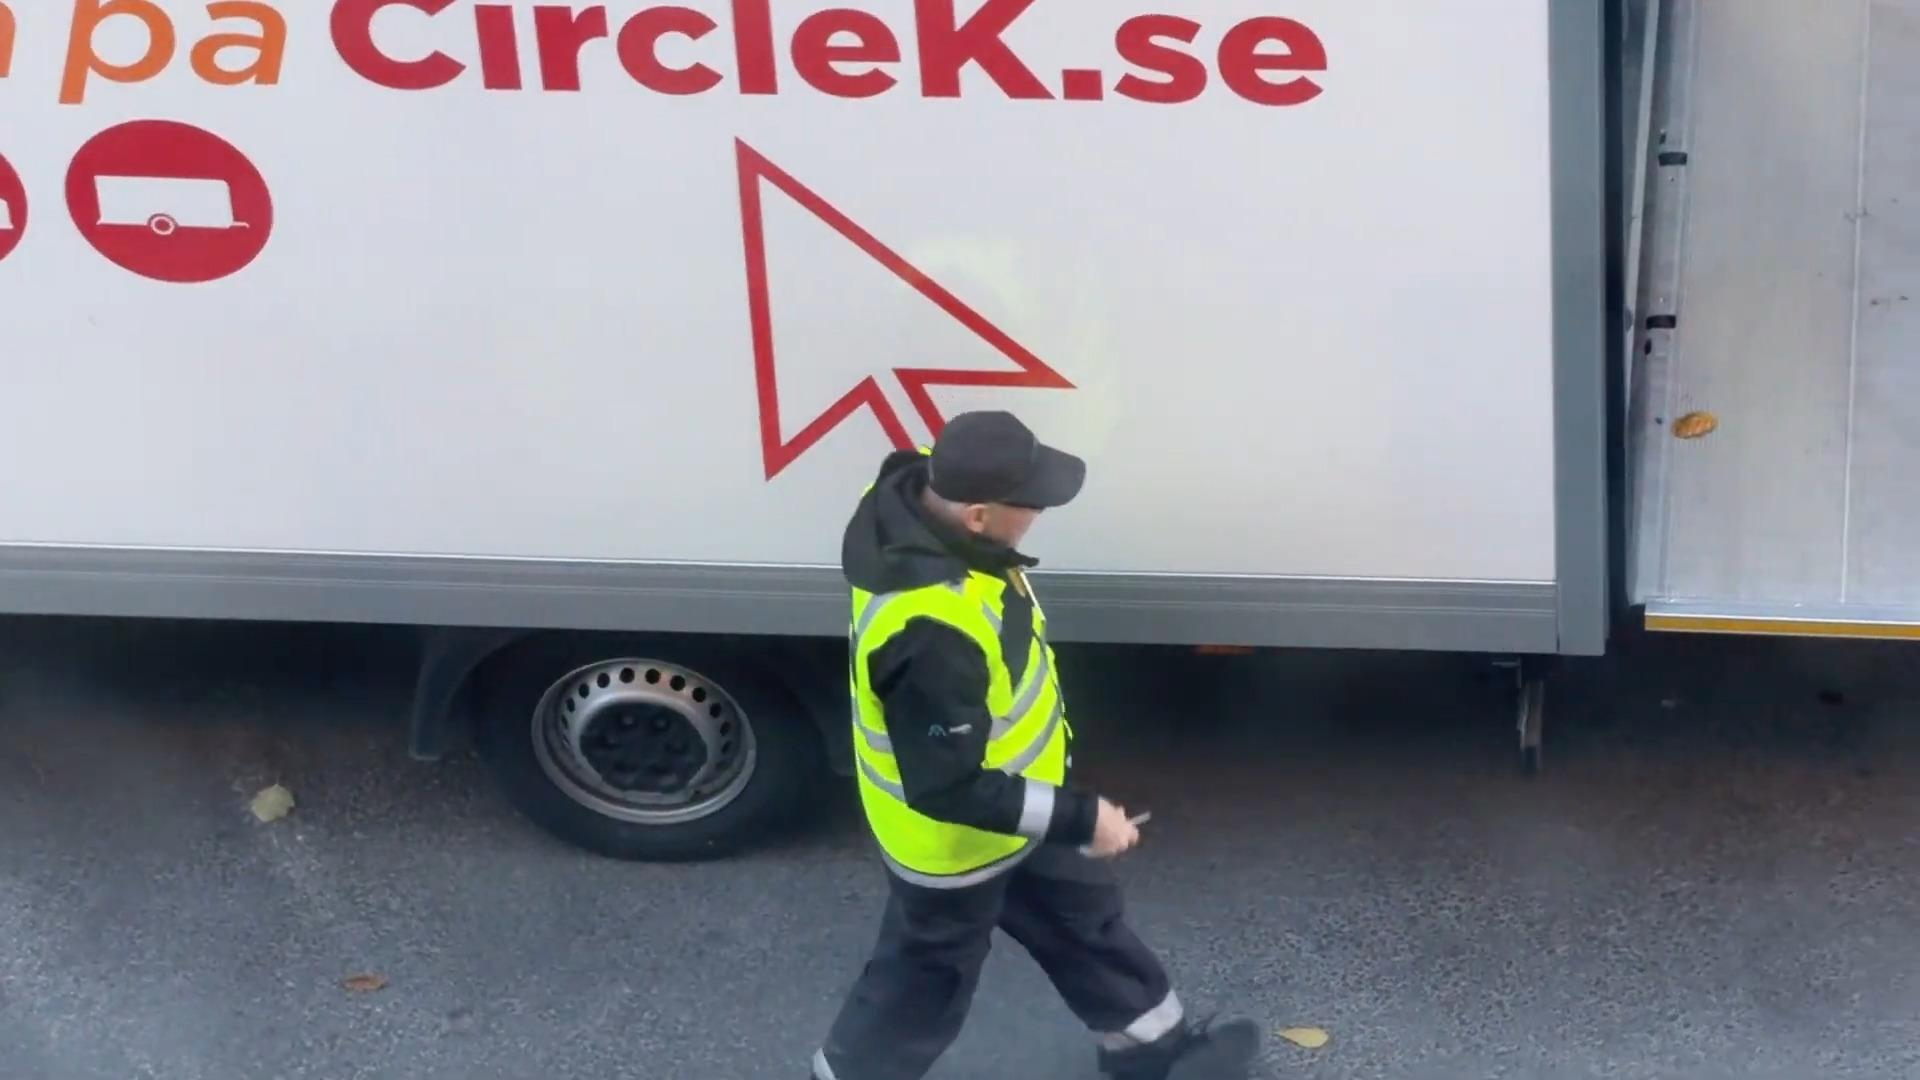parking-attendant: (812, 411, 1258, 1079)
